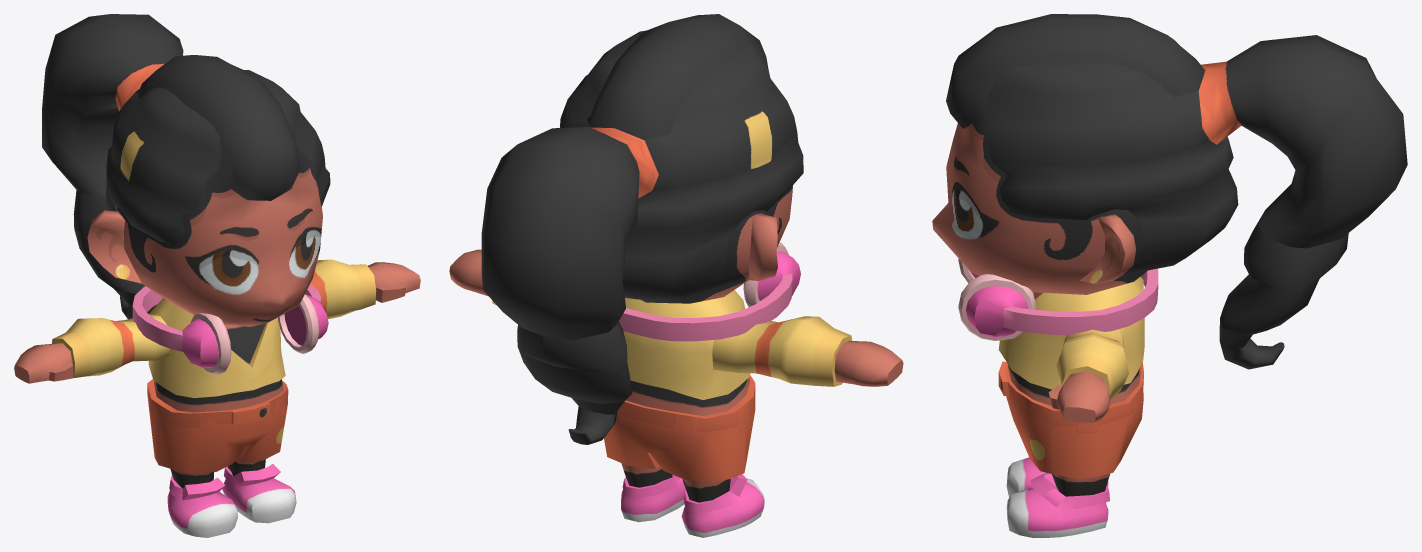
Rendered from modelagem 1 - unity.fbx.
3 views of the same model, side by side, from view 1: azimuth 30°, elevation 25°; view 2: azimuth 150°, elevation 25°; view 3: azimuth 270°, elevation 25° (orthographic). The views are drawn at different scales.
Visible parts, largest first — view 1: corpo, cabeça, cabelo 2, fone; view 2: cabelo 2, corpo, cabeça, fone; view 3: cabelo 2, cabeça, corpo, fone.
Boxes of the visible parts, bbox=[...] form: corpo: bbox=[14, 259, 420, 537]; cabeça: bbox=[87, 55, 322, 326]; cabelo 2: bbox=[42, 14, 330, 319]; fone: bbox=[132, 284, 328, 374]; cabelo 2: bbox=[481, 30, 803, 444]; corpo: bbox=[449, 249, 903, 537]; cabeça: bbox=[587, 14, 792, 303]; fone: bbox=[619, 242, 800, 341]; cabelo 2: bbox=[986, 35, 1407, 369]; cabeça: bbox=[932, 14, 1204, 294]; corpo: bbox=[998, 276, 1144, 537]; fone: bbox=[958, 258, 1158, 340].
Size of the model in its own units: 409 by 435 by 383.
Materials: 4 (4 with a texture image).
